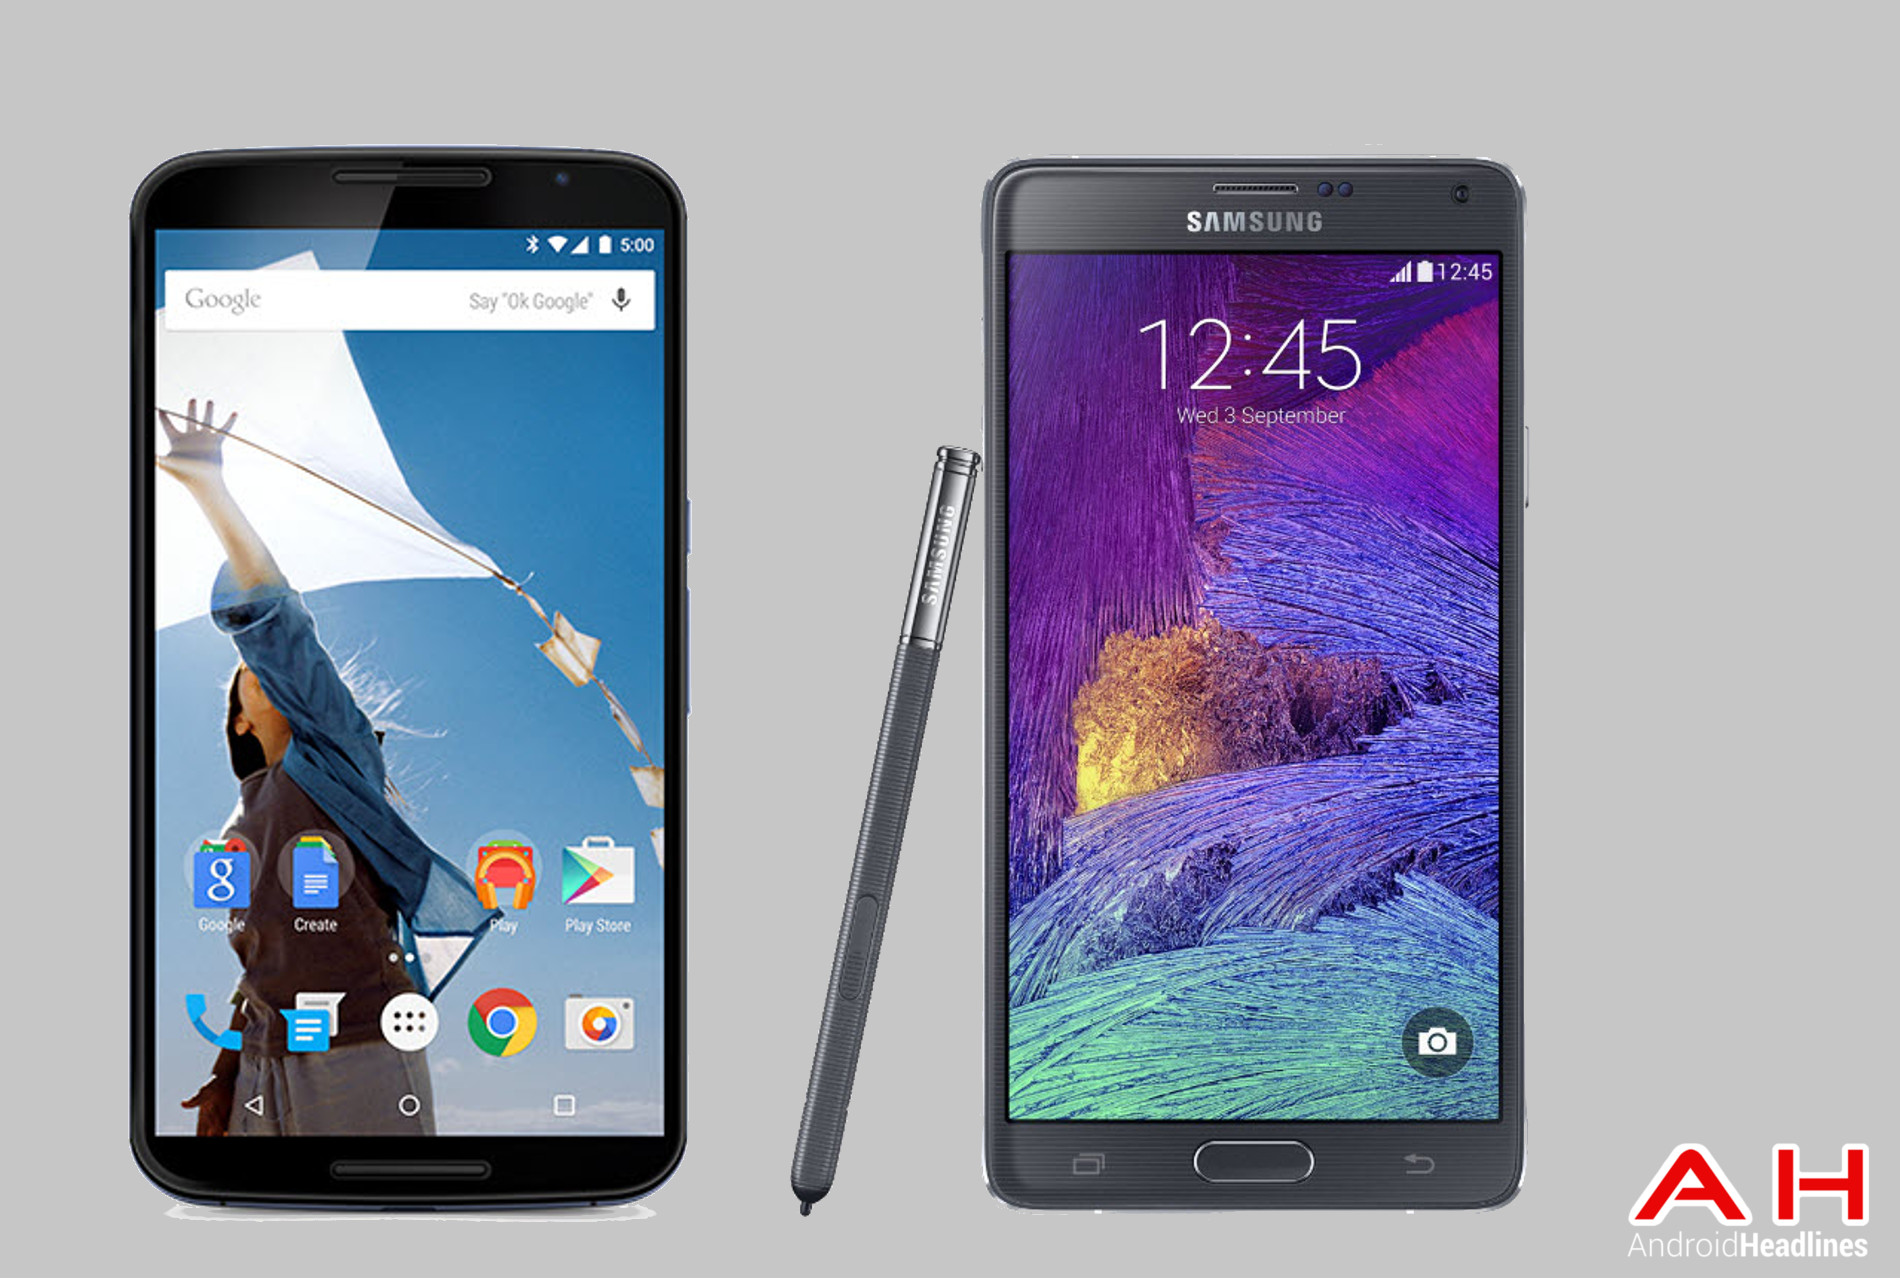smartphone: (127, 144, 691, 1211), (981, 154, 1530, 1214)
